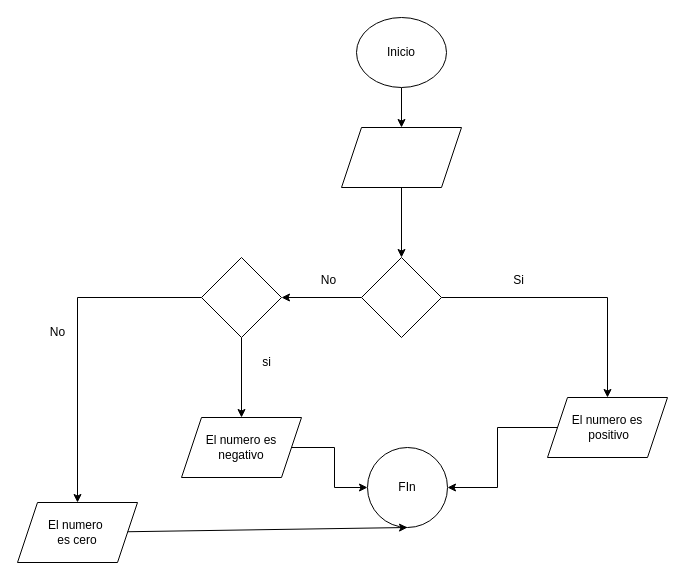
The diagram is 685 pixels wide and 580 high, and some of its shapes have lost their labels. Here are the shapes that lost their labels. From the top down, the centre of each, then its label:
point (401, 157): Ingrese el numero
point (241, 297): Numero < 0
point (401, 297): Numero > 0
